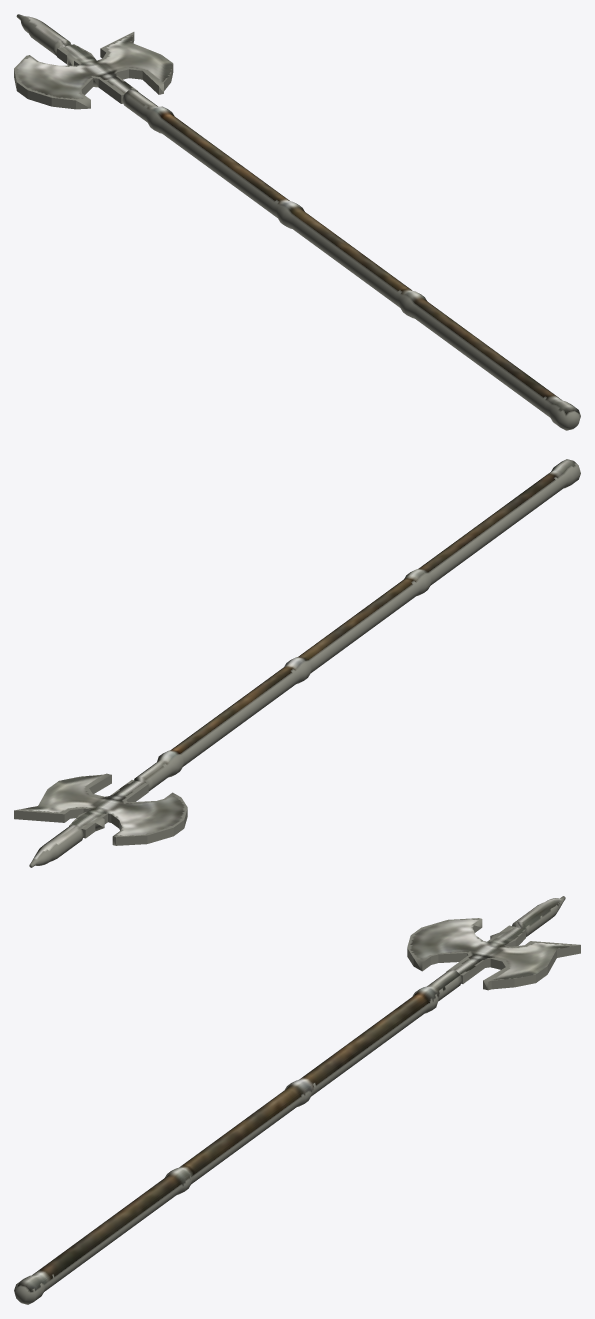
Rendered from item_mm9_10063.glb.
The picture shows the model from 3 angles, top to bottom: view 1: azimuth 30°, elevation 25°; view 2: azimuth 150°, elevation 25°; view 3: azimuth 330°, elevation 25°; orthographic projection.
Visible parts, largest first — view 1: d10063; view 2: d10063; view 3: d10063.
Part boxes in pixels (x1,y1,x2,y2): d10063: (14, 14, 580, 430); d10063: (14, 459, 580, 867); d10063: (14, 896, 580, 1304).
Bounding box in the file's own units: 37.03 × 5.58 × 254.
1 material, 1 textured.
